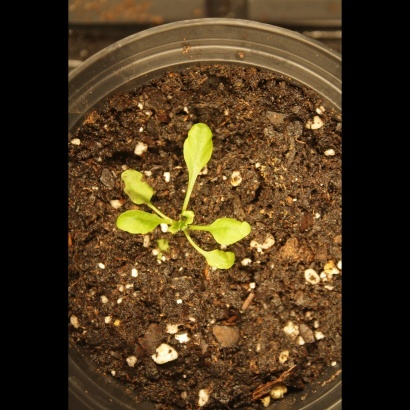leaf: (176, 116, 222, 182), (115, 164, 162, 210), (111, 204, 164, 241), (209, 207, 251, 251), (200, 241, 235, 276), (167, 210, 199, 240)
